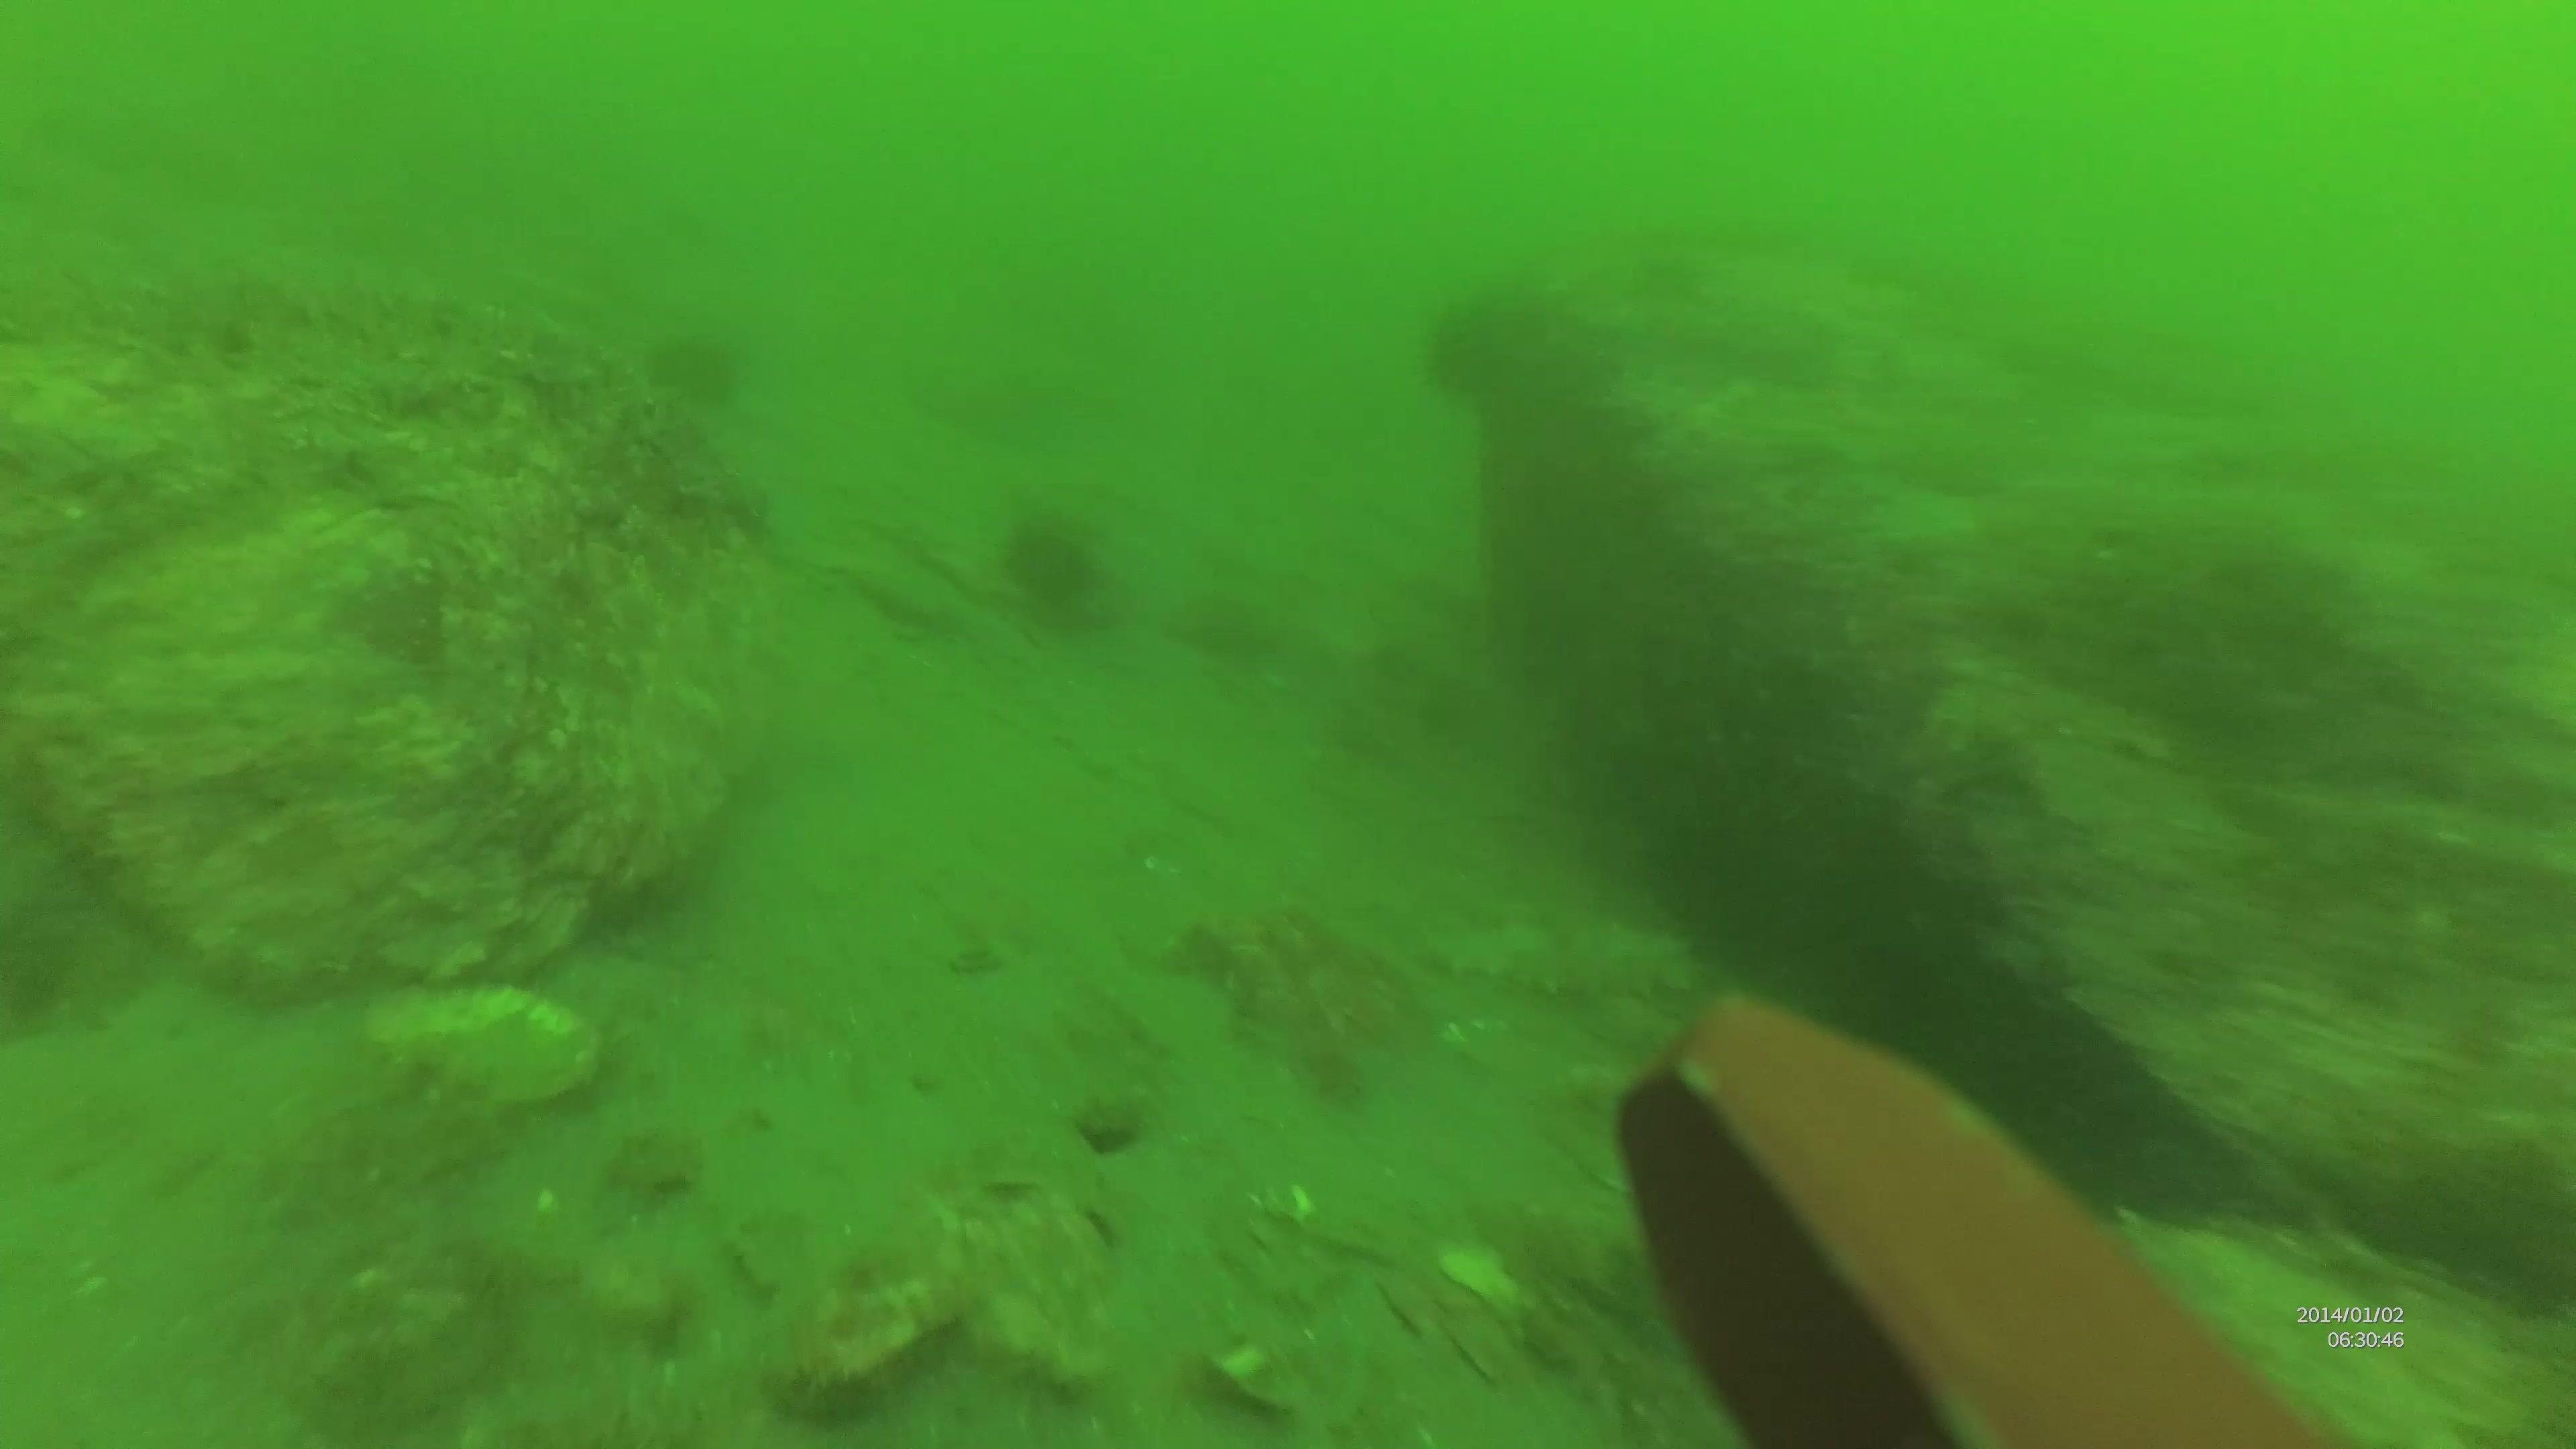echinus: (1000, 513, 1104, 625), (1419, 295, 1518, 402), (640, 322, 748, 418)
holothurian: (1414, 908, 1707, 1010)
